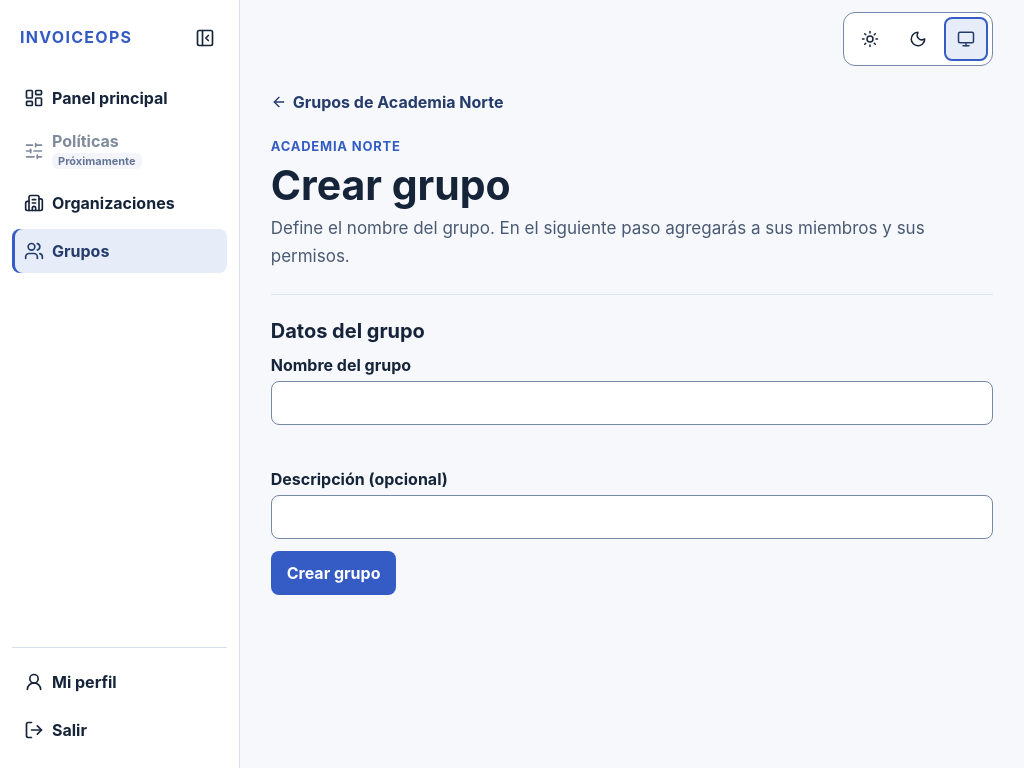
Test: GroupForm (create) › stays on the form and keeps the typed values when the group cannot be created
In the field labelled "Nombre del grupo": (632, 403) [271,381,993,425], type "  Cobranza "
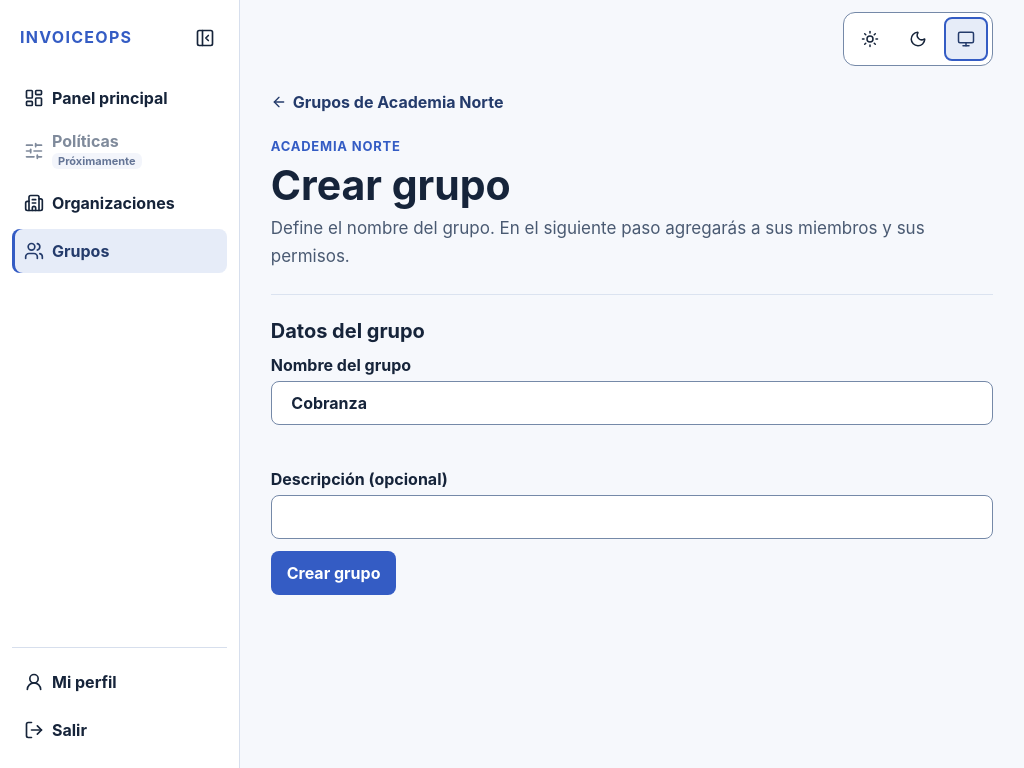
Click the button "Crear grupo": click(334, 573) [271,551,396,595]
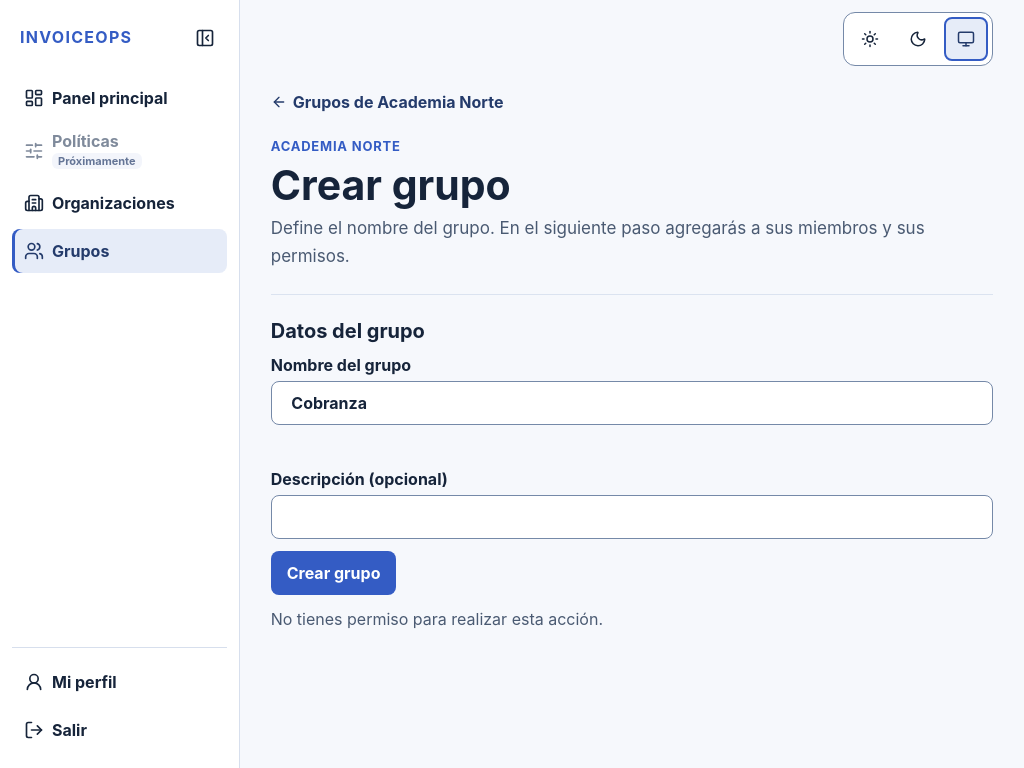
expect the message reads "No tienes permiso para realizar esta acción.": met, box [271,609,603,629]
